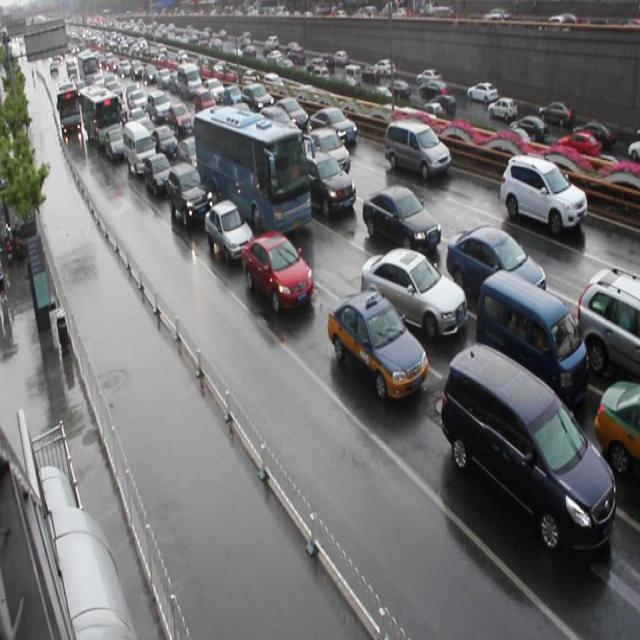car: (326, 289, 426, 401), (359, 248, 465, 339), (444, 224, 544, 303), (574, 267, 640, 380), (499, 153, 585, 233), (239, 232, 312, 314), (360, 186, 439, 256), (590, 379, 640, 474), (300, 150, 356, 219), (202, 199, 253, 260), (168, 162, 210, 223), (304, 128, 349, 178), (308, 105, 355, 150), (270, 97, 305, 134), (142, 152, 172, 194), (176, 138, 206, 173), (150, 125, 177, 159)
truck: (439, 342, 614, 554), (473, 270, 587, 396), (383, 118, 450, 181)
van: (194, 105, 310, 239)
